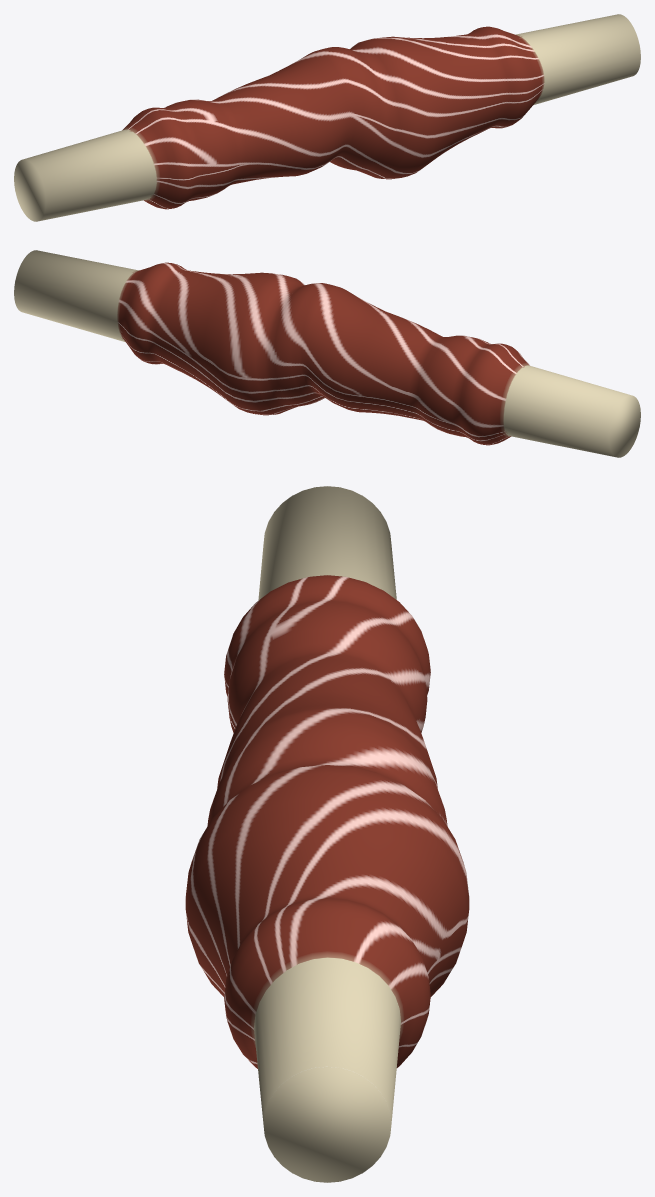
File: HerkkutikkuV1.fbx
3 views of the same model, one above another, from view 1: azimuth 30°, elevation 25°; view 2: azimuth 150°, elevation 25°; view 3: azimuth 270°, elevation 25° (orthographic). The views are drawn at different scales.
Parts seen in each view (by area): view 1: Cylinder; view 2: Cylinder; view 3: Cylinder.
Boxes of the visible parts, box(x1,y1,x2,y2) form: Cylinder: box(14, 14, 640, 221); Cylinder: box(14, 250, 640, 457); Cylinder: box(185, 486, 469, 1182).
Size of the model in its own units: 425 by 90.62 by 87.68.
Materials: 1 (1 with a texture image).
